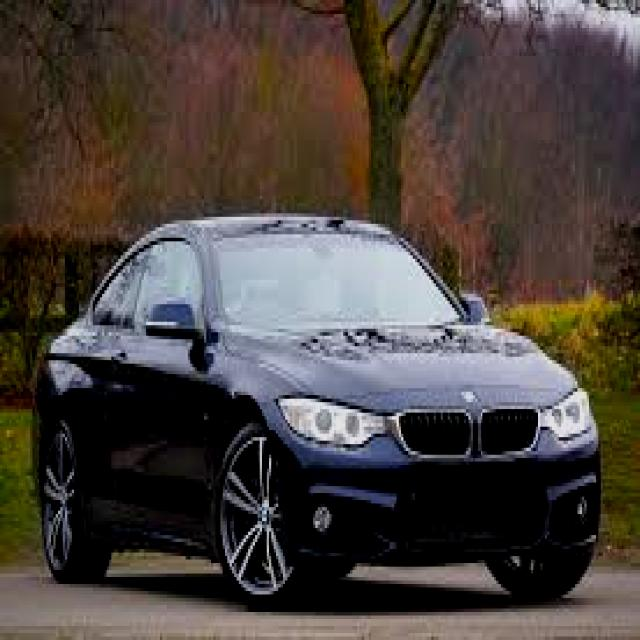SUV: (31, 210, 606, 610)
